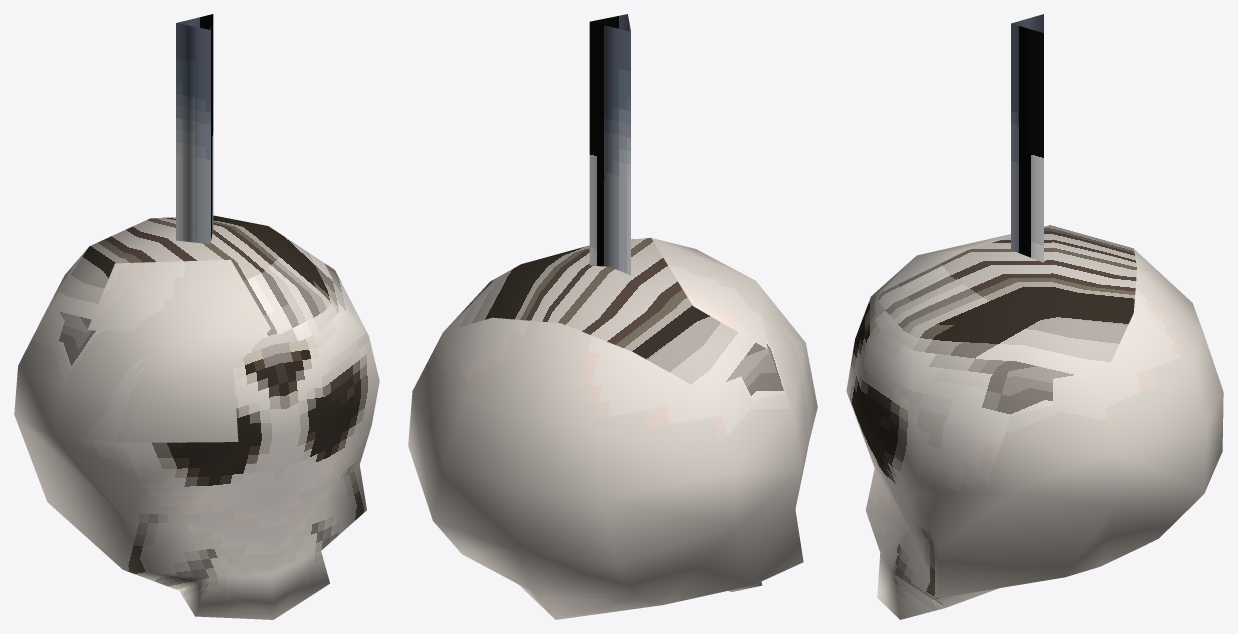
The picture shows the model from 3 angles, left to right: view 1: azimuth 30°, elevation 25°; view 2: azimuth 150°, elevation 25°; view 3: azimuth 270°, elevation 25°; orthographic projection. The views are drawn at different scales.
Visible parts, largest first — view 1: 5759head049_c; view 2: 5759head049_c; view 3: 5759head049_c.
Part boxes in pixels (bbox=[...]): 5759head049_c: bbox=[14, 14, 379, 619]; 5759head049_c: bbox=[408, 14, 817, 619]; 5759head049_c: bbox=[846, 14, 1223, 619].
Bounding box in the file's own units: 0.7627 × 1.27 × 0.7534.
Materials: 2 (2 with a texture image).
